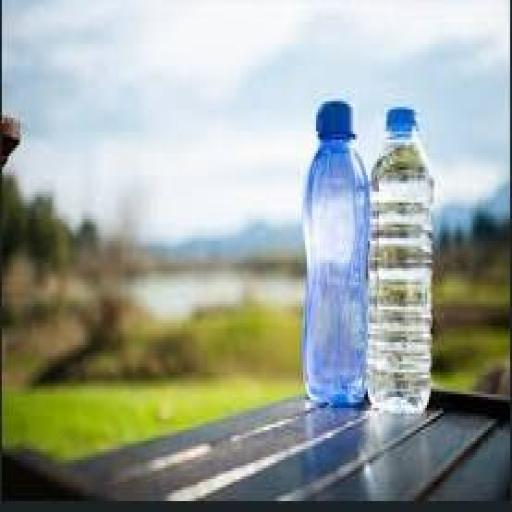bottle: (272, 64, 372, 418)
